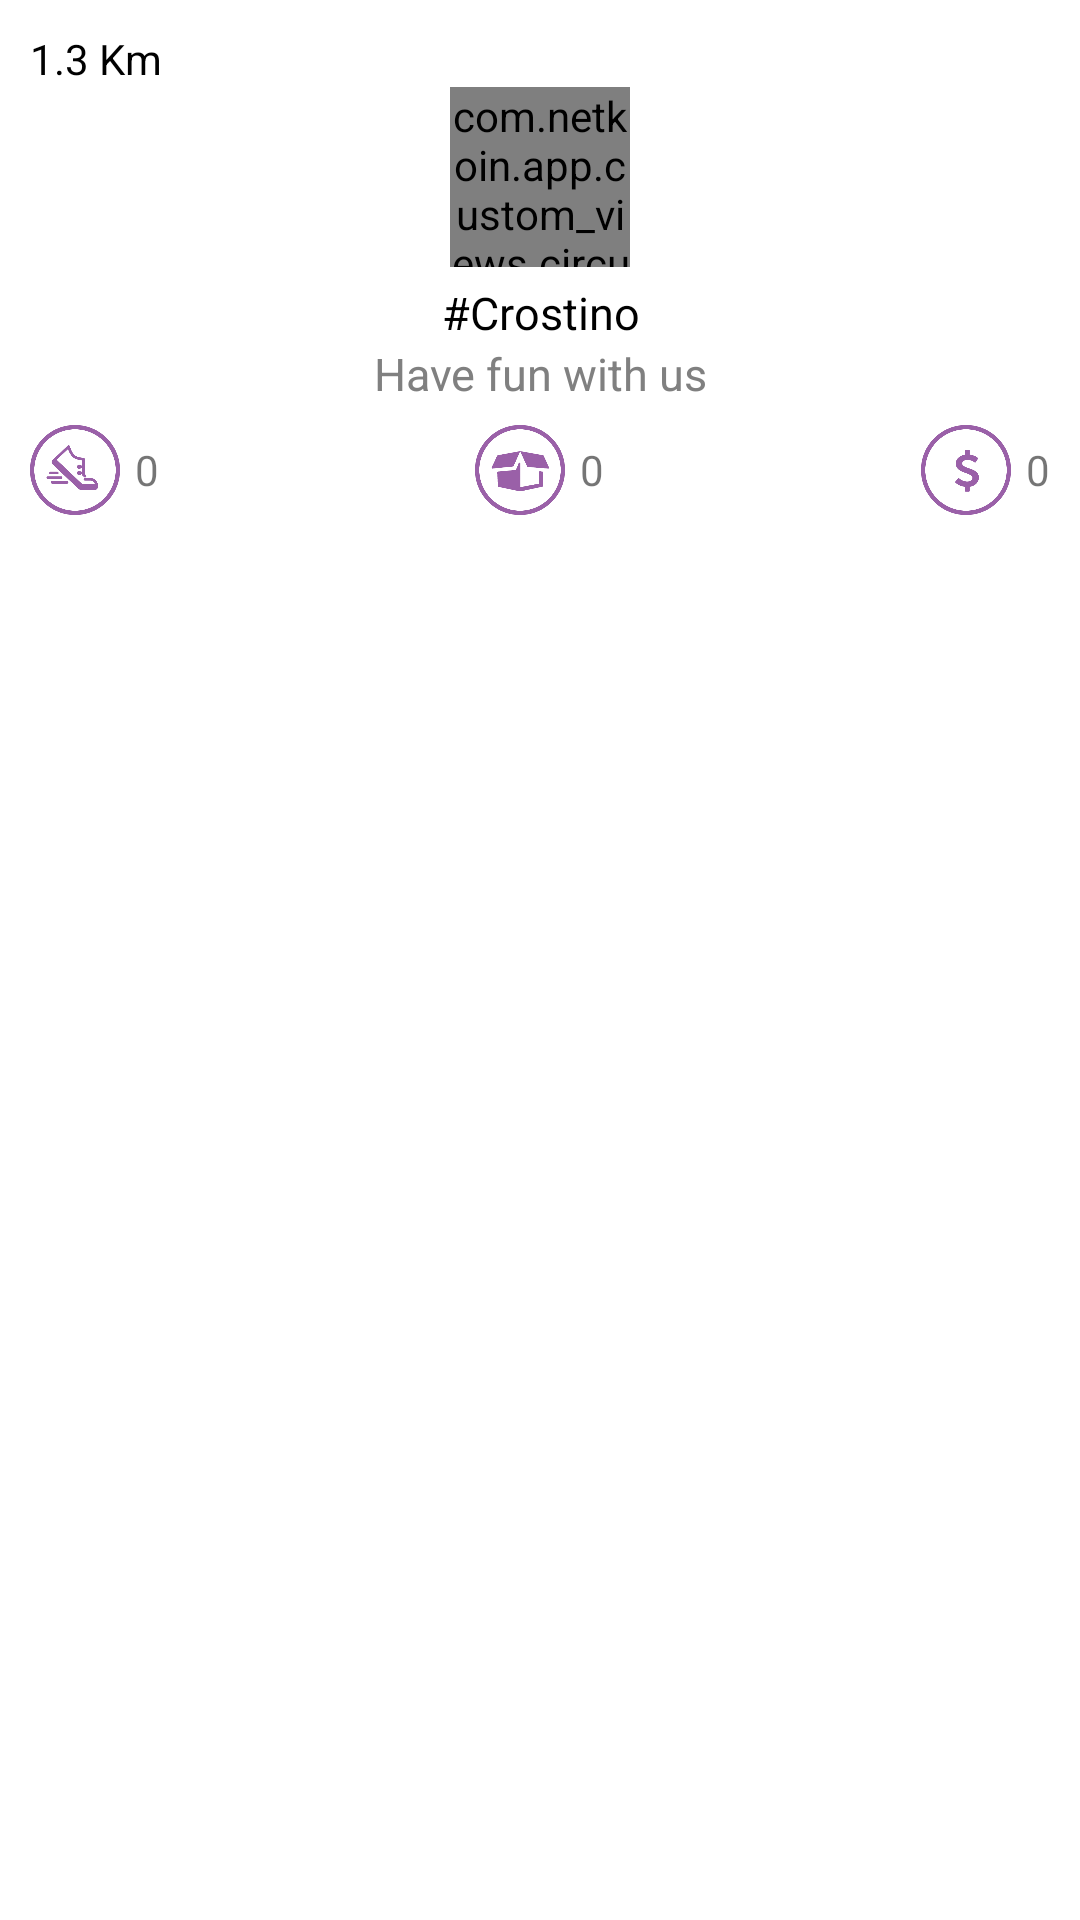

Where to tap for icons on this 1080×1920 app screen, as [x,y]:
products: [520,470]
purchases: [966,470]
walk ins: [75,470]
